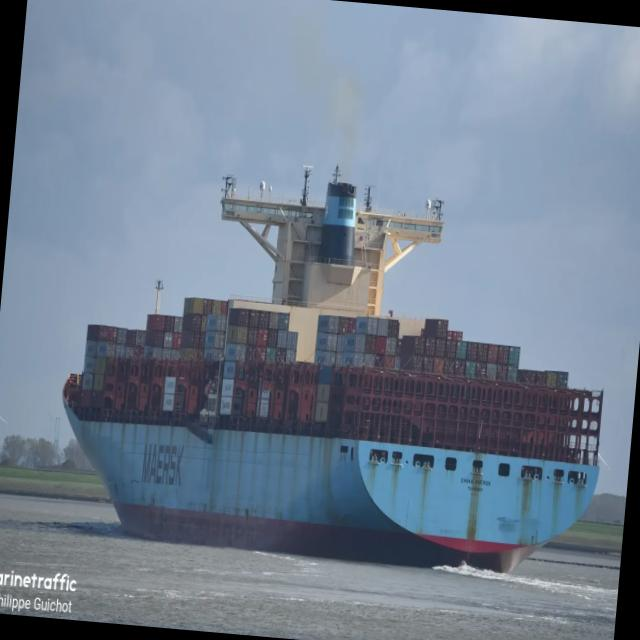Cargo: (62, 180, 602, 572)
